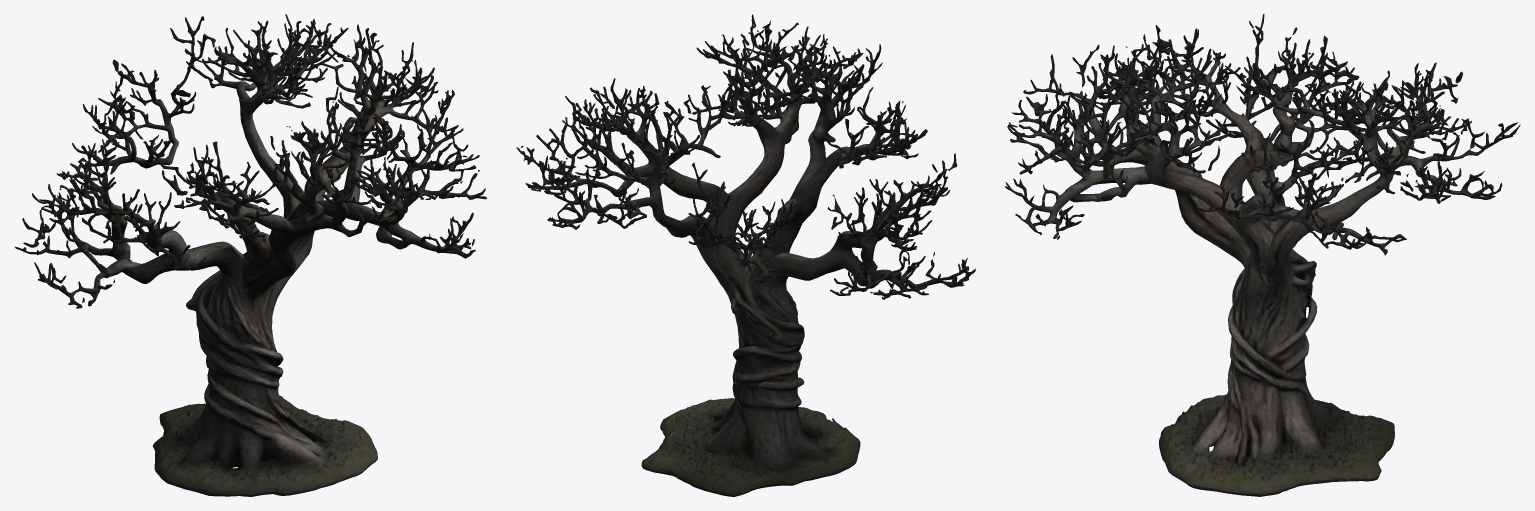
Rendered from char_dead_tree_01.glb.
3 renders of one model, left to right at view 1: azimuth 30°, elevation 25°; view 2: azimuth 150°, elevation 25°; view 3: azimuth 270°, elevation 25°, orthographic. The views are drawn at different scales.
Parts seen in each view (by area): view 1: geometry_0; view 2: geometry_0; view 3: geometry_0.
Part boxes in pixels (bbox=[...]): geometry_0: bbox=[15, 14, 487, 496]; geometry_0: bbox=[516, 14, 975, 496]; geometry_0: bbox=[1005, 14, 1520, 496].
Bounding box in the file's own units: 1 × 0.8578 × 0.9936.
1 material, 1 textured.
